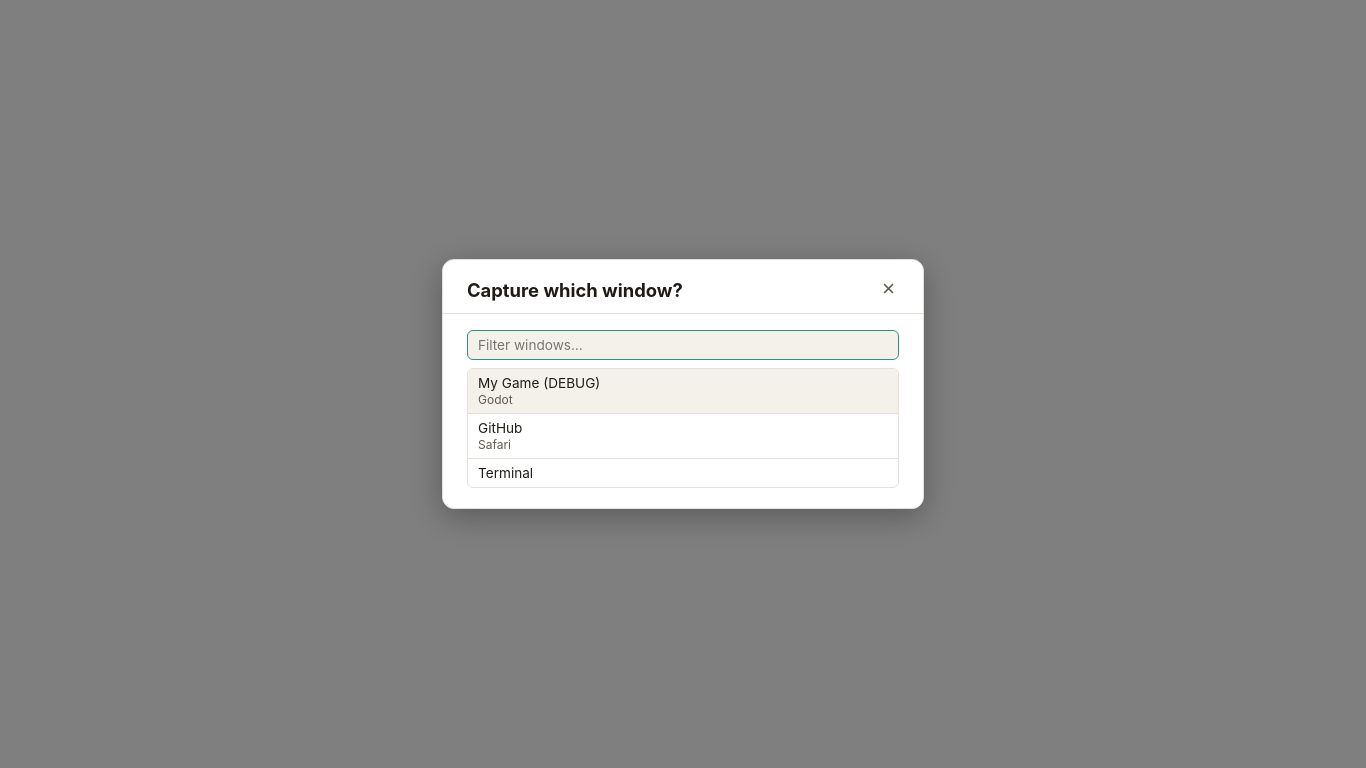
Scenario: WindowPickerModal › says so when nothing matches
Type "nope" into the dropdown.
click(683, 345); type("nope")  # box x1=467 y1=330 x2=899 y2=360
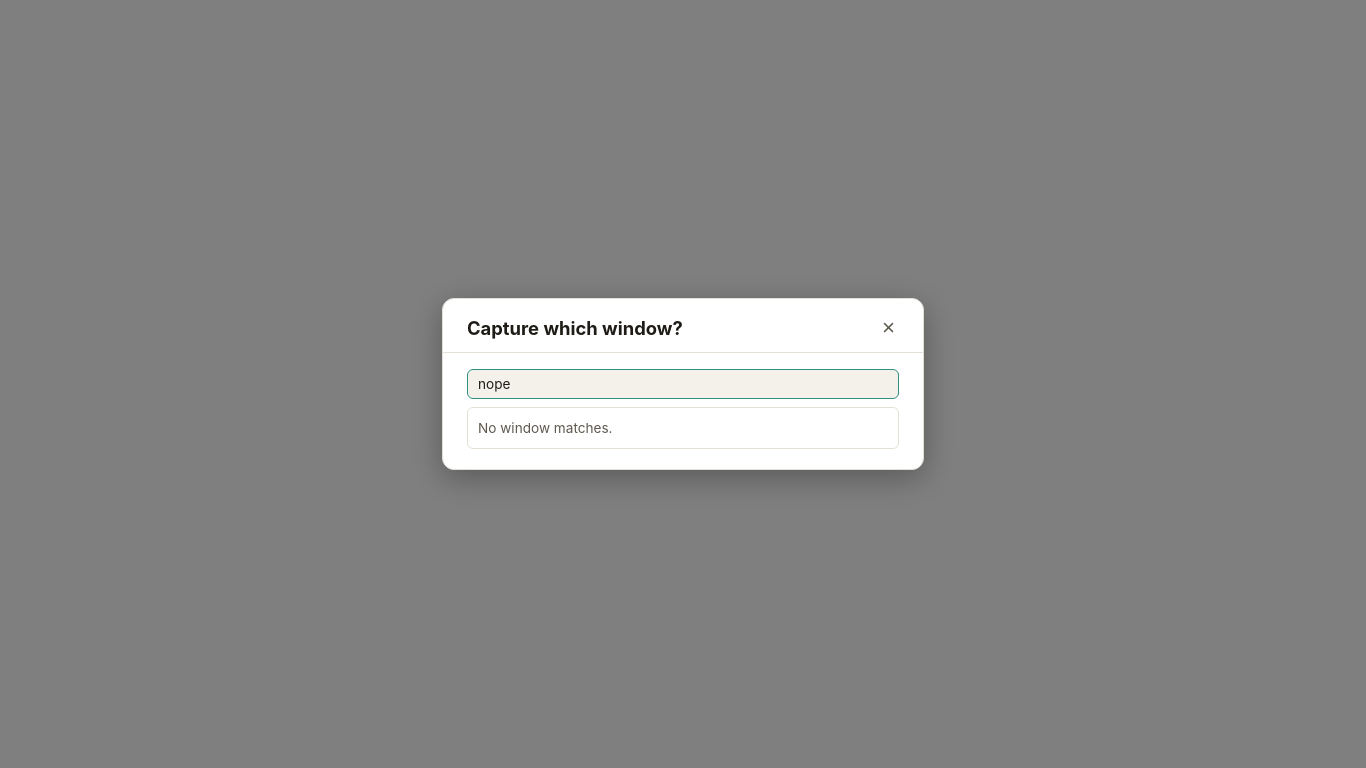
Result: no options are shown
Result: the text "No window matches." is shown at x1=478 y1=420 x2=612 y2=436
